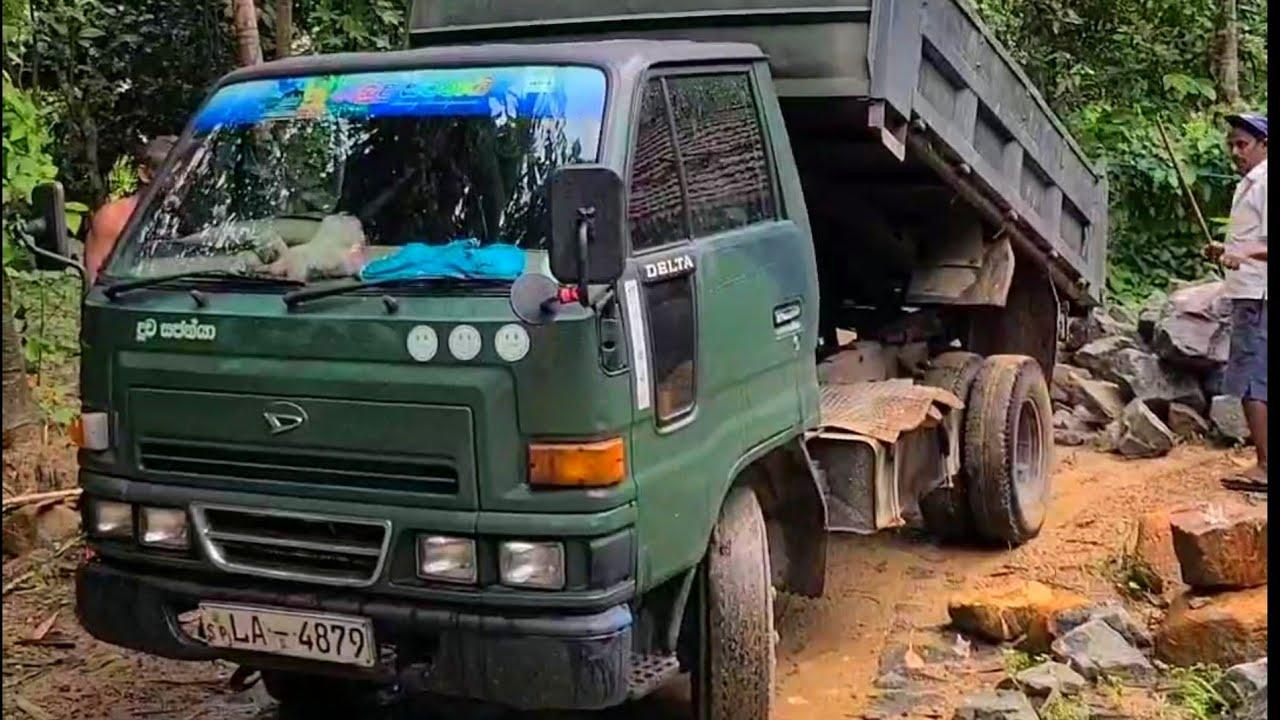truck: (28, 13, 1111, 720)
